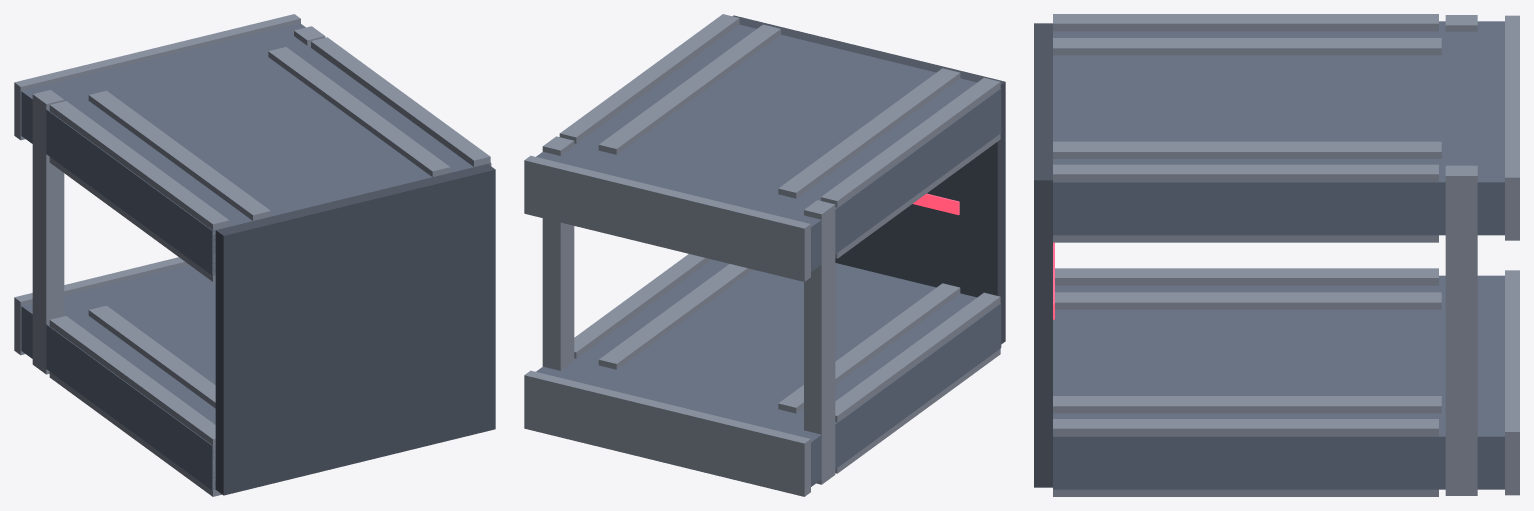
The model's file is corridor_straight_3p946.glb.
3 views of the same model, side by side, from view 1: azimuth 30°, elevation 25°; view 2: azimuth 150°, elevation 25°; view 3: azimuth 270°, elevation 25° (orthographic). The views are drawn at different scales.
Visible parts, largest first — view 1: Floor, Wall.001, Wall, EndLintel, EndPillar.001, EndPillar, Buttress.003, Buttress.002, EndPillar.003, Cap.001, Buttress, Cap; view 2: Wall.001, Wall, Cap.001, Cap, Floor, EndLintel, EndLintel.001, EndPillar.001, EndPillar, Buttress.002, Buttress.003, EndPillar.003 (+4 smaller); view 3: Wall.001, Wall, EndLintel.001, EndPillar.002, EndPillar.003, Floor, Buttress.001, Buttress.002, Buttress.003, Buttress, EndPillar.001, EndPillar (+3 smaller).
Part boxes in pixels (x1,y1,x2,y2): Floor: [215, 164, 495, 495]; Wall.001: [21, 23, 491, 275]; Wall: [21, 265, 215, 490]; EndLintel: [32, 90, 64, 374]; EndPillar.001: [49, 101, 229, 281]; EndPillar: [49, 316, 221, 496]; Buttress.003: [268, 47, 450, 177]; Buttress.002: [88, 90, 270, 220]; EndPillar.003: [311, 37, 490, 166]; Cap.001: [14, 14, 300, 140]; Buttress: [88, 305, 215, 408]; Cap: [14, 257, 188, 355]; Wall.001: [536, 24, 1001, 271]; Wall: [536, 259, 1001, 486]; Cap.001: [524, 155, 810, 281]; Cap: [524, 370, 810, 496]; Floor: [733, 15, 1005, 344]; EndLintel: [804, 200, 835, 484]; EndLintel.001: [542, 136, 574, 370]; EndPillar.001: [821, 77, 1000, 258]; EndPillar: [835, 292, 1000, 473]; Buttress.002: [778, 68, 960, 198]; Buttress.003: [598, 24, 780, 154]; EndPillar.003: [559, 14, 739, 143]; Wall.001: [1053, 21, 1504, 235]; Wall: [1053, 275, 1504, 489]; EndLintel.001: [1445, 165, 1477, 495]; EndPillar.002: [1053, 419, 1438, 496]; EndPillar.003: [1053, 164, 1438, 242]; Floor: [1034, 23, 1052, 487]; Buttress.001: [1053, 396, 1441, 413]; Buttress.002: [1053, 38, 1441, 55]; Buttress.003: [1053, 141, 1441, 158]; Buttress: [1055, 292, 1441, 309]; EndPillar.001: [1053, 14, 1438, 31]; EndPillar: [1055, 268, 1438, 285].
Bounding box in the file's own units: 4.07 × 3.78 × 5.16.
